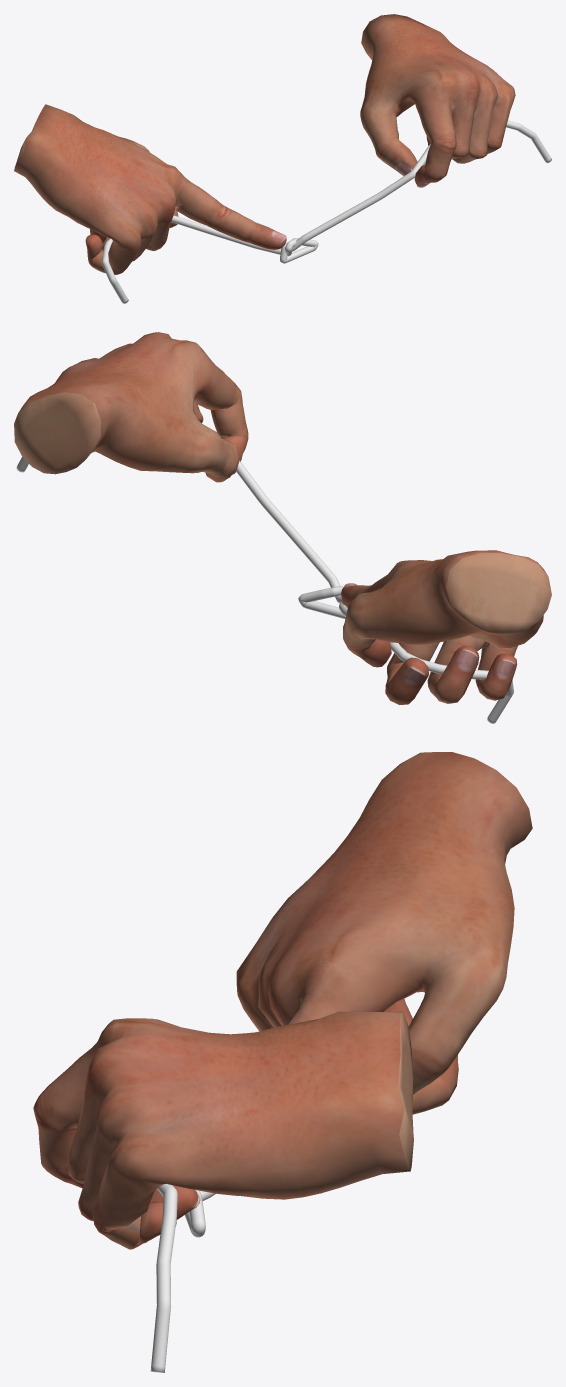
File: zfk_part3_assi_tighten.fbx
The picture shows the model from 3 angles, top to bottom: view 1: azimuth 30°, elevation 25°; view 2: azimuth 150°, elevation 25°; view 3: azimuth 270°, elevation 25°; orthographic projection. The views are drawn at different scales.
Visible parts, largest first — view 1: Hand_R, Hand_L, faden_L, faden_R; view 2: Hand_L, Hand_R, faden_L, faden_R; view 3: Hand_L, Hand_R, faden_L.
Part boxes in pixels (<box>): Hand_R: <box>14,104,286,274</box>; Hand_L: <box>360,14,515,187</box>; faden_L: <box>280,120,551,263</box>; faden_R: <box>101,215,318,303</box>; Hand_L: <box>14,332,248,482</box>; Hand_R: <box>341,550,551,704</box>; faden_L: <box>16,457,345,618</box>; faden_R: <box>298,586,513,723</box>; Hand_L: <box>33,1011,413,1249</box>; Hand_R: <box>236,752,532,1114</box>; faden_L: <box>150,1183,186,1372</box>.
Size of the model in its own units: 44.9 by 18.19 by 20.7.
